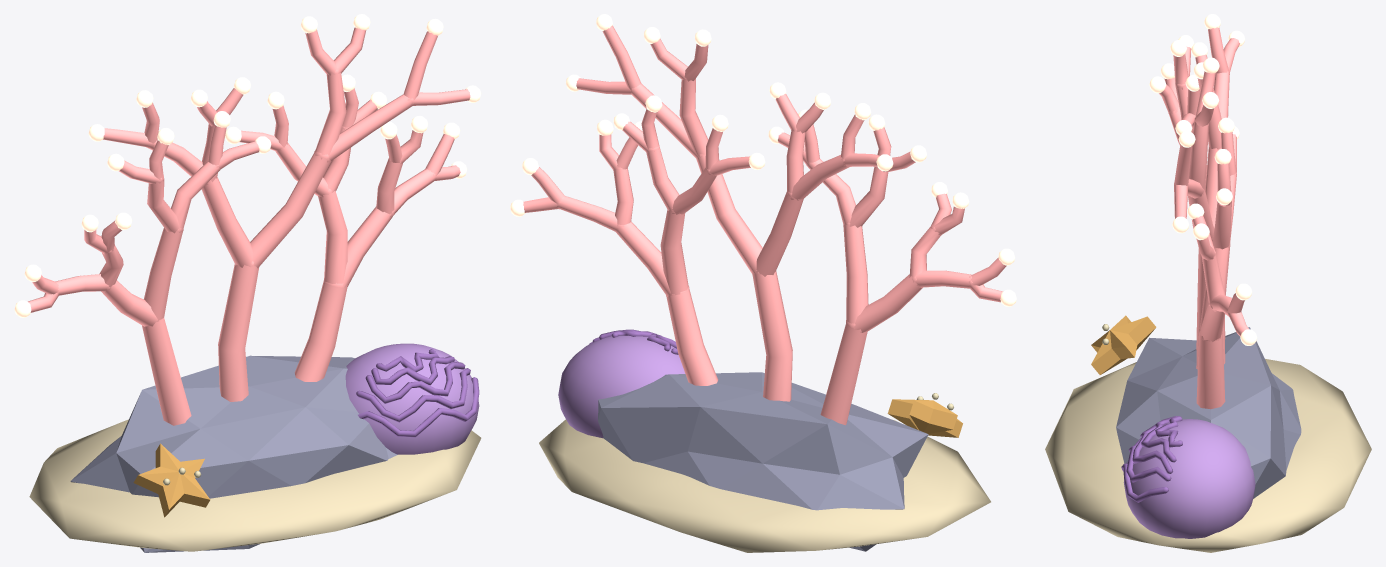
The model's file is bg_coral.glb.
3 renders of one model, left to right at view 1: azimuth 30°, elevation 25°; view 2: azimuth 150°, elevation 25°; view 3: azimuth 270°, elevation 25°, orthographic. The views are drawn at different scales.
Parts seen in each view (by area): view 1: bg_coral; view 2: bg_coral; view 3: bg_coral.
Part boxes in pixels (box(x1,y1,x2,y2)): bg_coral: box(14, 14, 481, 552); bg_coral: box(510, 14, 1016, 552); bg_coral: box(1045, 14, 1371, 552).
Size of the model in its own units: 1.78 by 1.73 by 1.09.
